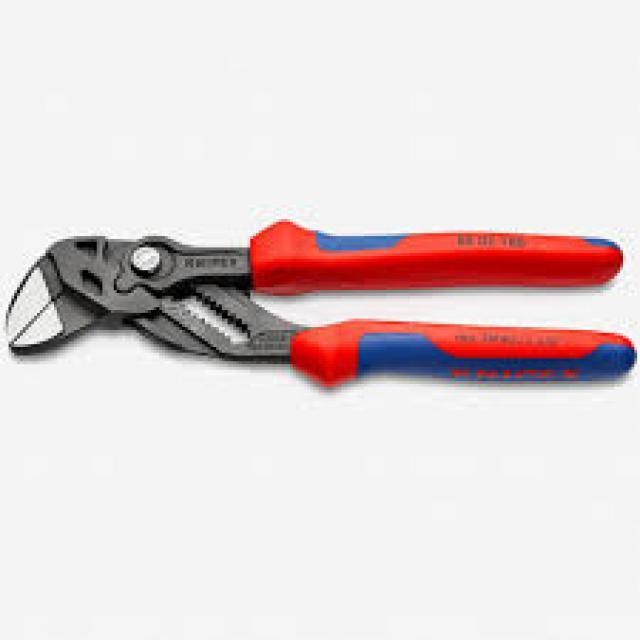pliers: (0, 210, 640, 407)
